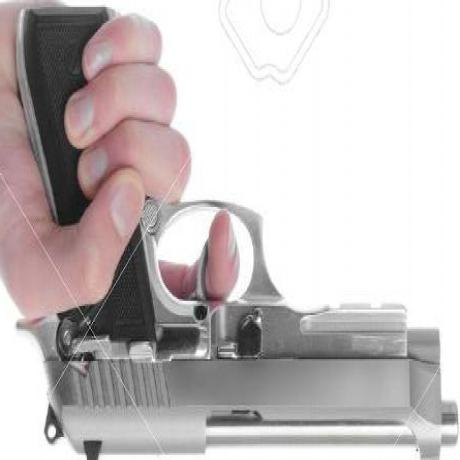1: (0, 0, 242, 332)
weapon: (13, 8, 451, 456)
